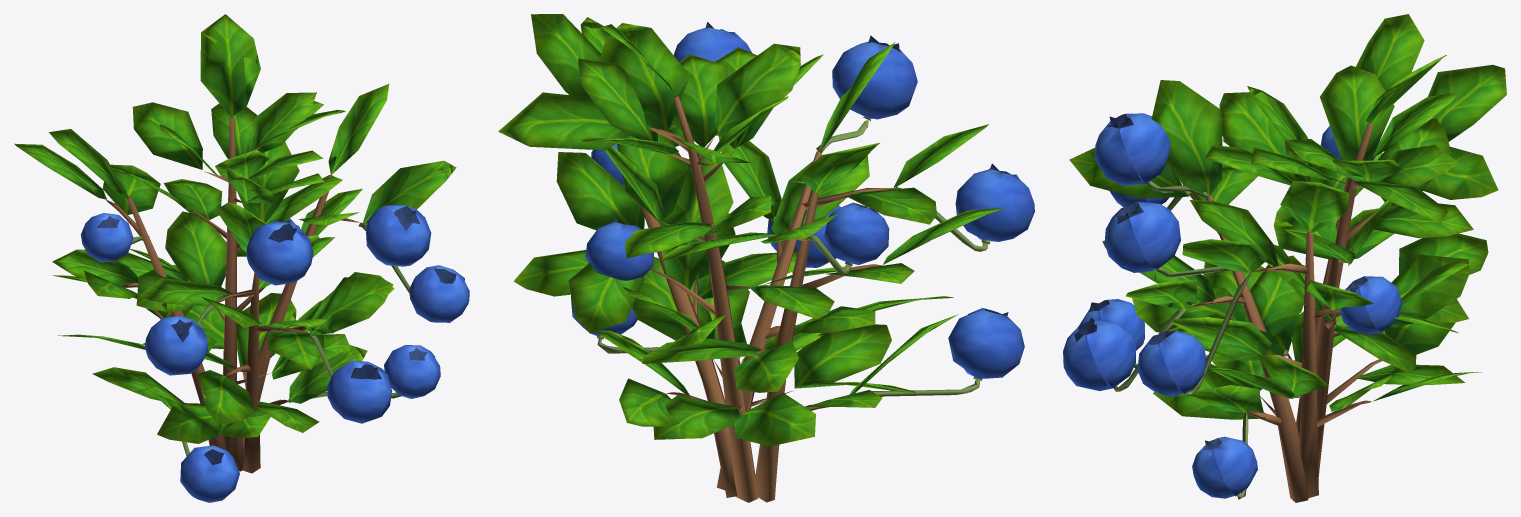
Rendered from NP_Blueberry_Ready_LOD1.fbx.
The picture shows the model from 3 angles, left to right: view 1: azimuth 30°, elevation 25°; view 2: azimuth 150°, elevation 25°; view 3: azimuth 270°, elevation 25°; orthographic projection. The views are drawn at different scales.
Visible parts, largest first — view 1: NP_Blueberry_Ready; view 2: NP_Blueberry_Ready; view 3: NP_Blueberry_Ready.
Boxes of the visible parts, x1=… form: NP_Blueberry_Ready: x1=14, y1=14, x2=469, y2=502; NP_Blueberry_Ready: x1=498, y1=14, x2=1034, y2=502; NP_Blueberry_Ready: x1=1063, y1=14, x2=1506, y2=502.
Bounding box in the file's own units: 70.09 × 77.47 × 66.89.
Materials: 1 (1 with a texture image).
